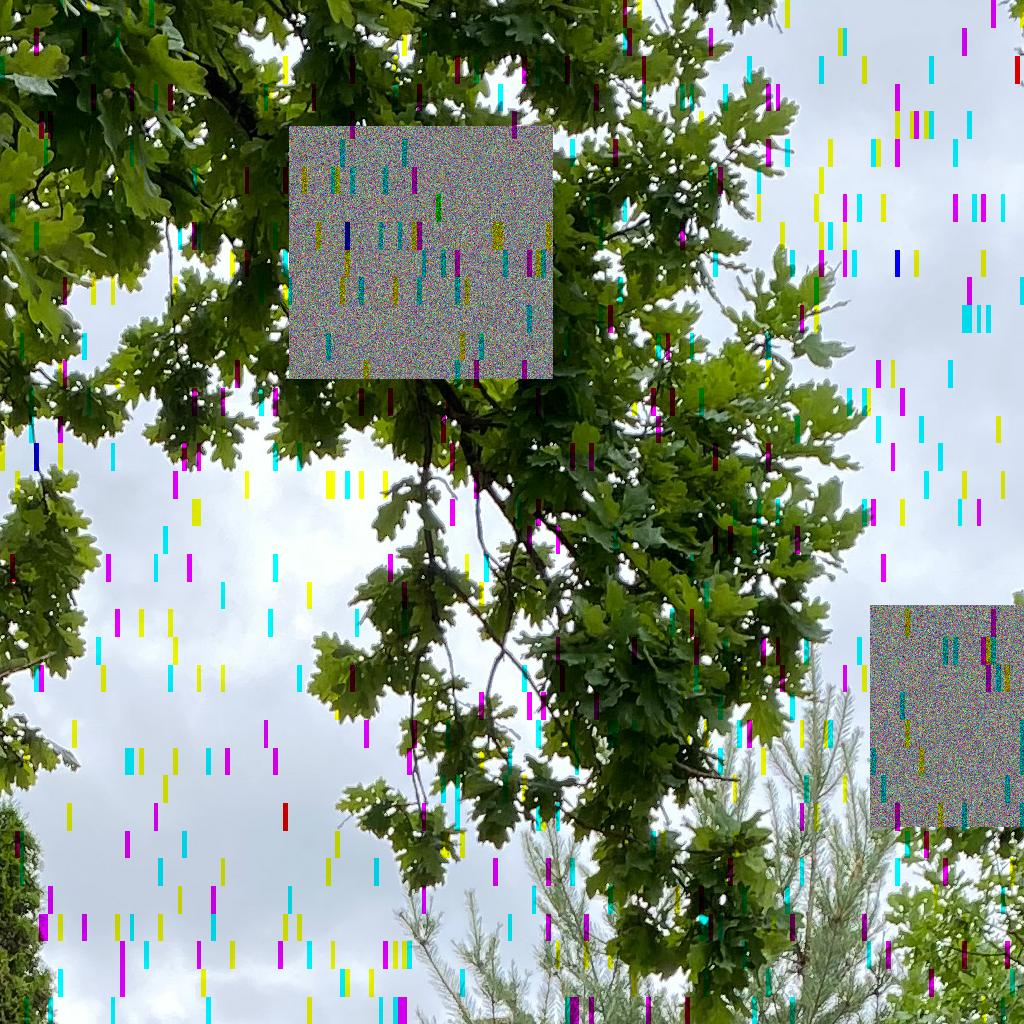tree: (1, 1, 875, 1024), (390, 635, 904, 1024), (884, 590, 1024, 1024), (1, 793, 60, 1024)
